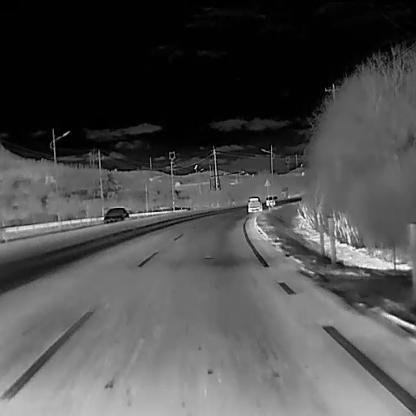car: (102, 207, 129, 224), (246, 196, 262, 212), (266, 197, 274, 205)
